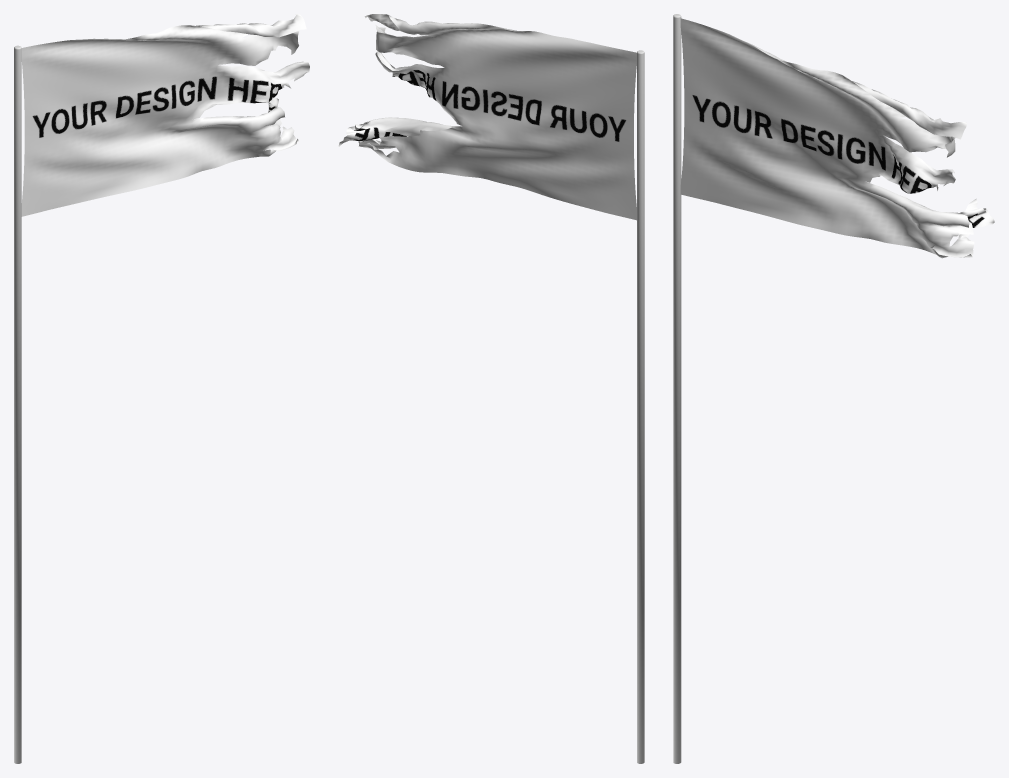
The model's file is uploads_files_6015152_FlagStatic.fbx.
3 renders of one model, left to right at view 1: azimuth 30°, elevation 25°; view 2: azimuth 150°, elevation 25°; view 3: azimuth 330°, elevation 25°, orthographic. The views are drawn at different scales.
Parts seen in each view (by area): view 1: MAIN, Cylinder; view 2: MAIN, Cylinder; view 3: MAIN, Cylinder.
Part boxes in pixels (box(x1,y1,x2,y2)): MAIN: box(21, 14, 309, 216); Cylinder: box(14, 45, 21, 763); MAIN: box(338, 14, 636, 220); Cylinder: box(637, 50, 644, 763); MAIN: box(680, 18, 994, 258); Cylinder: box(673, 14, 681, 763).
Bounding box in the file's own units: 354 × 847 × 82.26.
2 materials, 1 textured.
